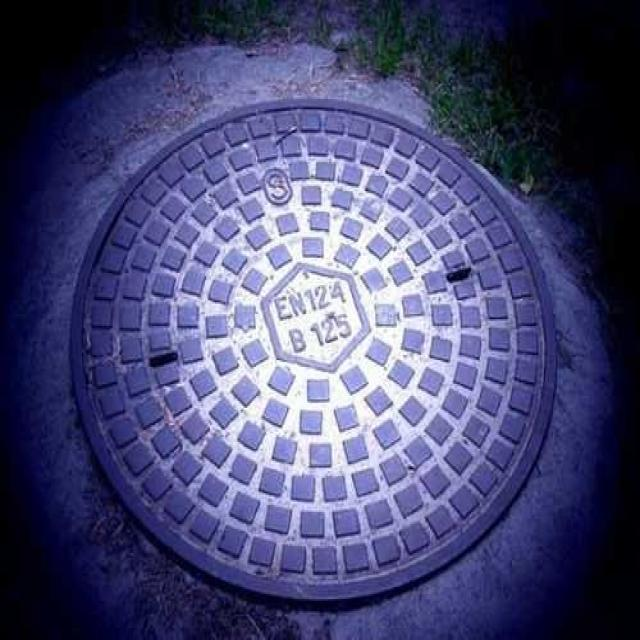manhole: (71, 100, 555, 601)
